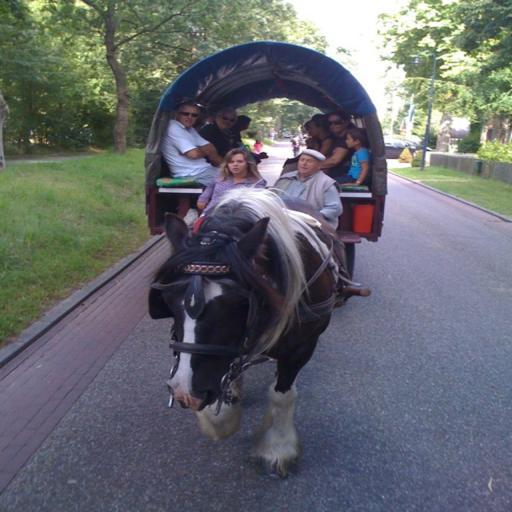horse: (146, 176, 346, 478)
